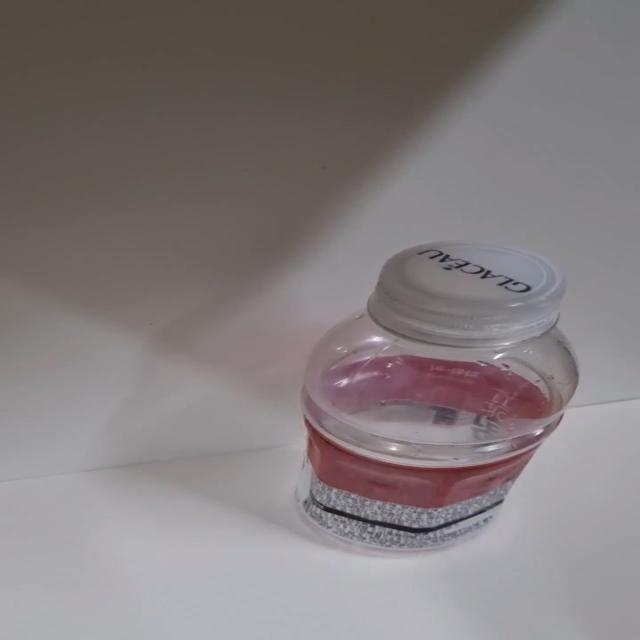Plastic: (292, 240, 580, 560)
